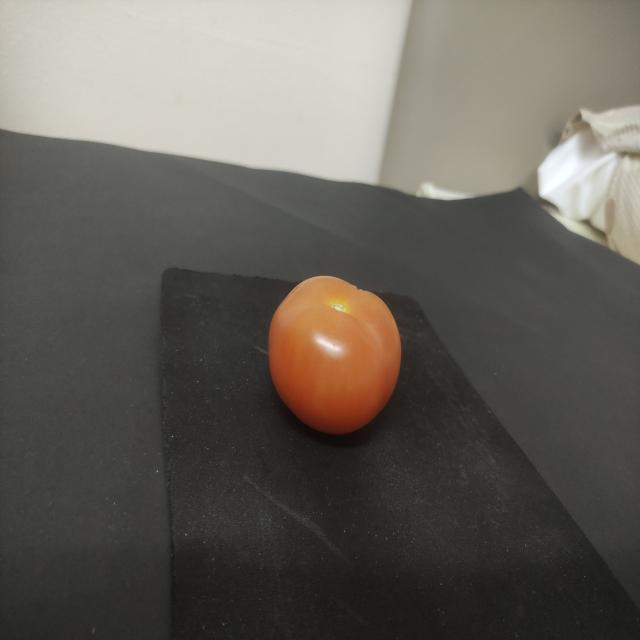sari: (251, 258, 418, 444)
